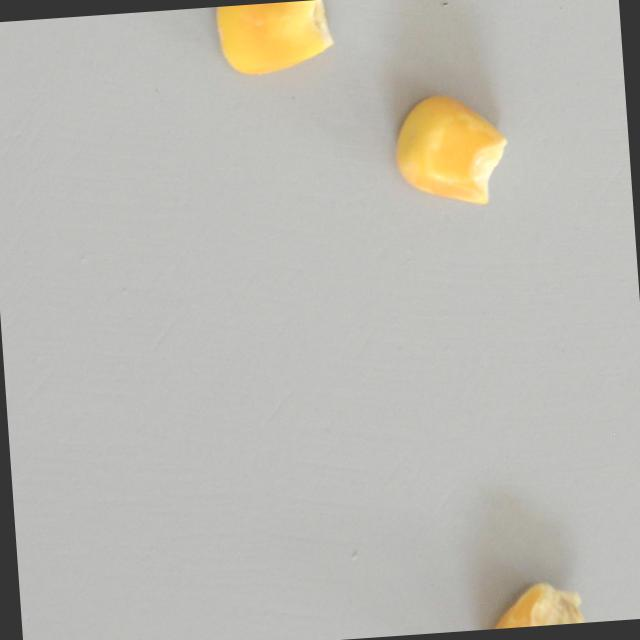no_canjicado: (213, 0, 337, 79)
no_desgerminado: (472, 577, 591, 630)
pelicula: (390, 89, 512, 210)
